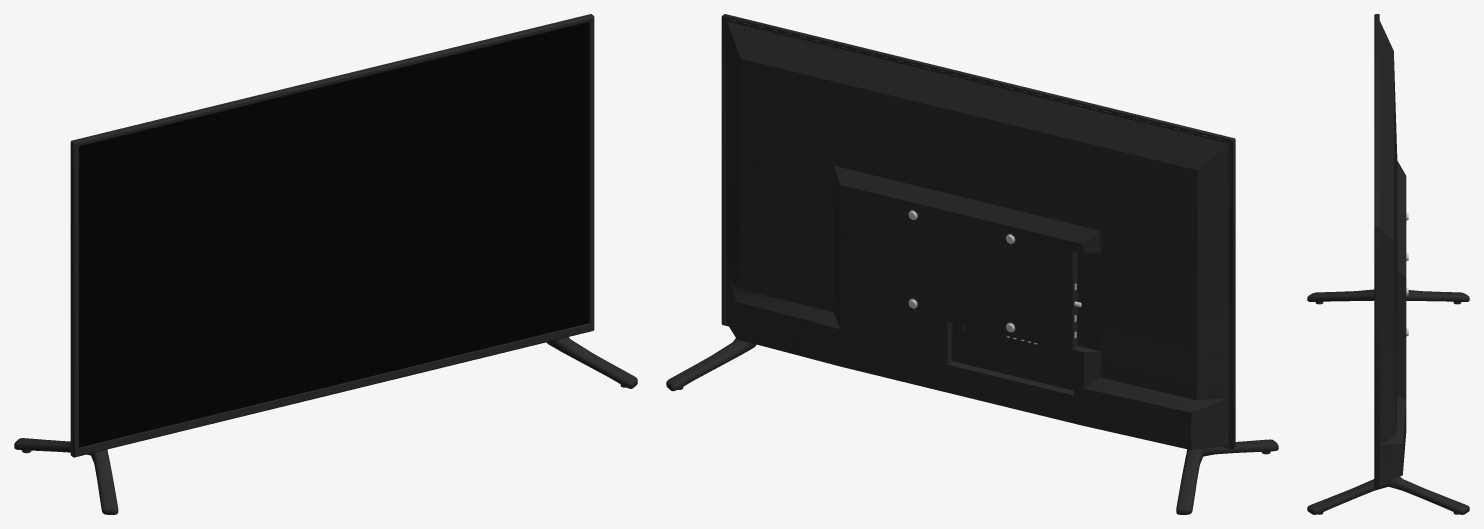
File: Flat_screen_television.glb
The picture shows the model from 3 angles, left to right: view 1: azimuth 30°, elevation 25°; view 2: azimuth 150°, elevation 25°; view 3: azimuth 270°, elevation 25°; orthographic projection. The views are drawn at different scales.
Parts seen in each view (by area): view 1: TV_TV_0; view 2: TV_TV_0; view 3: TV_TV_0.
Part boxes in pixels (<box>): TV_TV_0: <box>14,14,637,514</box>; TV_TV_0: <box>666,14,1278,514</box>; TV_TV_0: <box>1307,14,1469,514</box>.
Bounding box in the file's own units: 1.16 × 0.7161 × 0.3658.
Materials: 1 (1 with a texture image).
